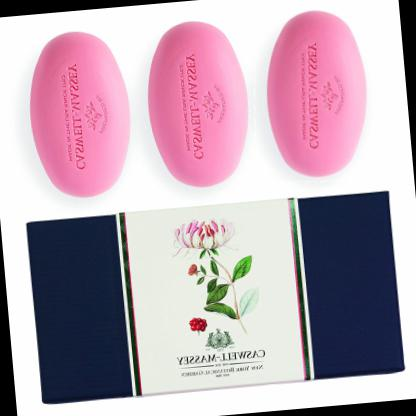soap: (244, 0, 387, 189)
